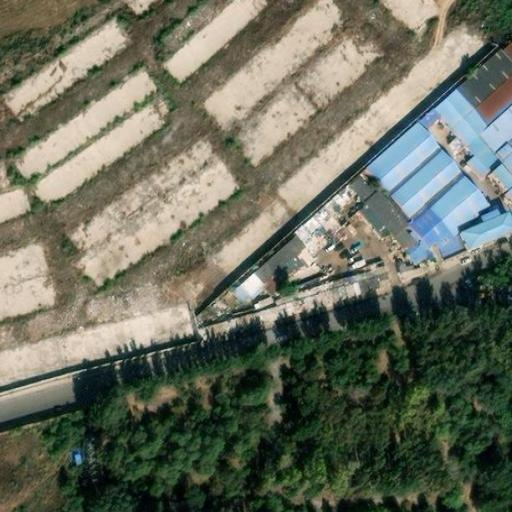building: (366, 121, 464, 218), (410, 174, 492, 259), (436, 89, 502, 178), (457, 41, 512, 125), (349, 169, 408, 238), (296, 194, 349, 244), (254, 231, 307, 280), (389, 221, 433, 267), (461, 210, 512, 247), (479, 104, 512, 153), (232, 271, 266, 305), (489, 159, 512, 198), (496, 141, 512, 171)
